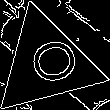O_W: (16, 36, 77, 91)
